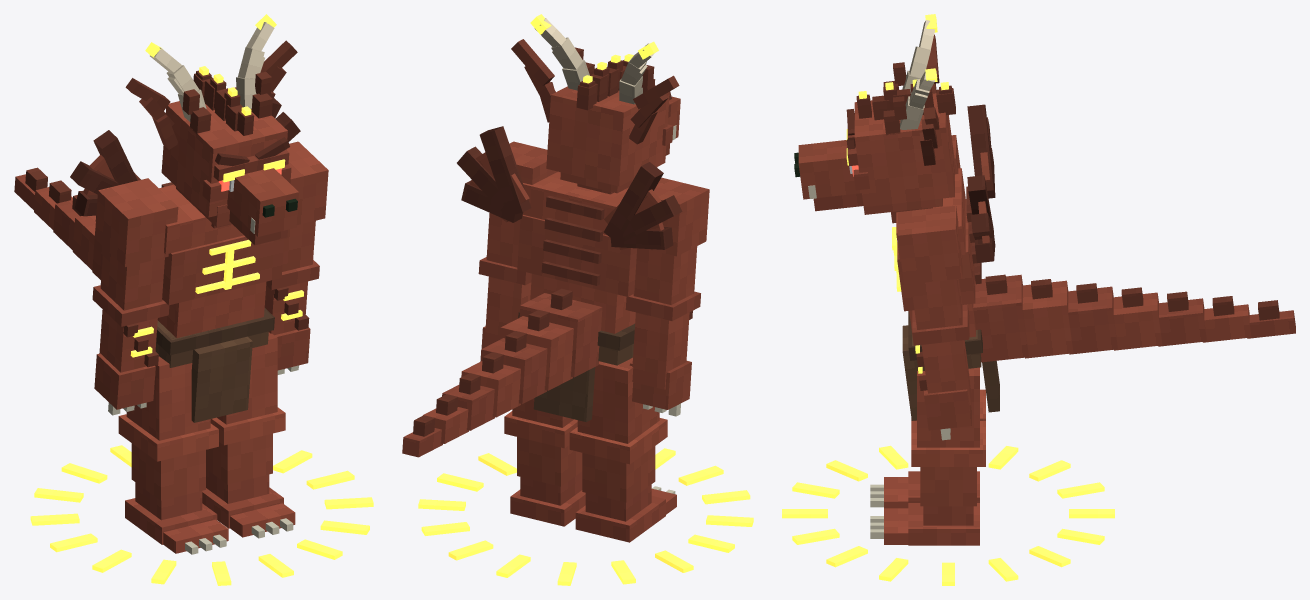
The model's file is lizard_base_v3_evo3.glb.
3 renders of one model, left to right at view 1: azimuth 30°, elevation 25°; view 2: azimuth 150°, elevation 25°; view 3: azimuth 270°, elevation 25°, orthographic. The views are drawn at different scales.
Visible parts, largest first — view 1: Torso, Head, ArmR, LegR, LegL, ArmL, Root; view 2: Torso, Head, LegR, ArmR, LegL, Root, ArmL; view 3: Torso, Head, ArmL, LegL, Root, LegR.
Boxes of the visible parts, x1,y1,x2,y2 form: Torso: [14, 98, 300, 422]; Head: [125, 14, 298, 245]; ArmR: [92, 178, 178, 415]; LegR: [118, 356, 228, 553]; LegL: [202, 332, 295, 537]; ArmL: [264, 141, 328, 374]; Root: [30, 445, 373, 585]; Torso: [402, 126, 682, 457]; Head: [511, 14, 680, 194]; LegR: [569, 357, 676, 542]; ArmR: [625, 177, 709, 416]; LegL: [504, 398, 585, 526]; Root: [418, 448, 753, 585]; ArmL: [478, 141, 557, 348]; Torso: [892, 104, 1295, 420]; Head: [794, 14, 955, 223]; ArmL: [897, 205, 971, 440]; LegL: [884, 367, 985, 545]; Root: [782, 445, 1114, 585]; LegR: [884, 389, 985, 508].
Bounding box in the file's own units: 1.16 × 1.83 × 1.79.
Materials: 28 (28 with a texture image).
